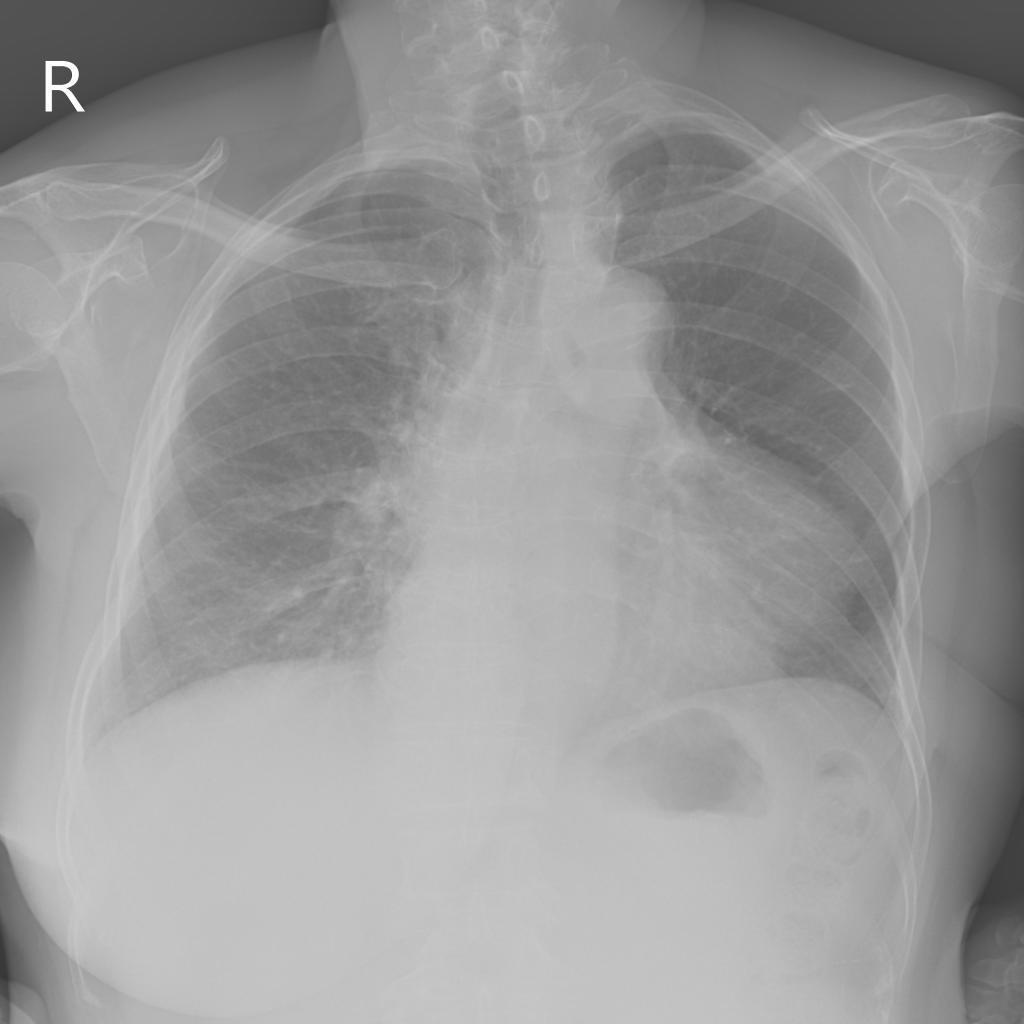Nodule: (683, 454, 857, 648)
